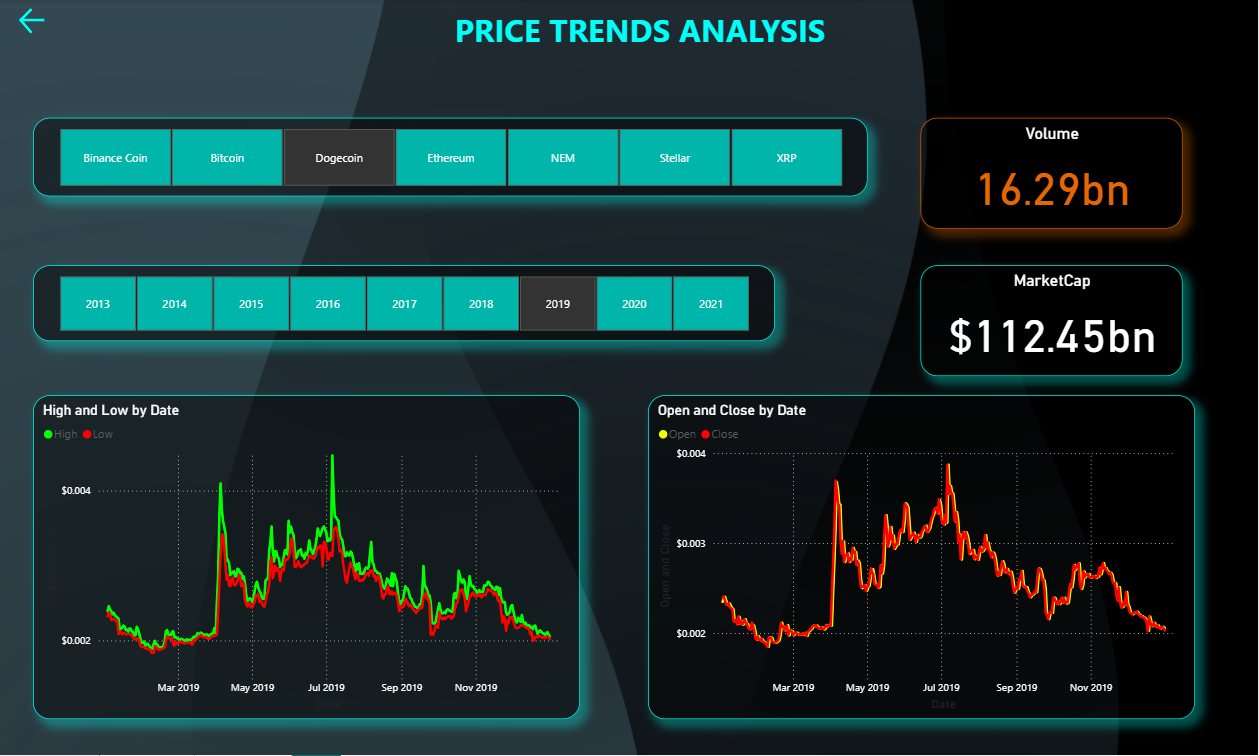

The dashboard page shown, as its layout file describes it:
{"tool":"powerbi","page":{"name":"Page 2","canvas":[1500,900],"ordinal":1},"visuals":[{"type":"slicer","fields":{"Values":["CryptoData_CSV.Name"]},"box":[41.8,141.5,993.8,93.3],"z":0},{"type":"slicer","fields":{"Values":["CryptoData_CSV.Year"]},"box":[41.8,316.8,882.8,90.1],"z":1000},{"type":"lineChart","fields":{"Y":["Sum(CryptoData_CSV.High)","Sum(CryptoData_CSV.Low)"],"Category":["CryptoData_CSV.Date"]},"box":[41.8,471.2,651.3,385.9],"z":2000},{"type":"actionButton","box":[20.9,6.4,41.8,40.2],"z":3000},{"type":"textbox","box":[538.7,6.4,749.4,64.3],"z":4000},{"type":"card","title":"MarketCap","fields":{"Values":["Sum(CryptoData_CSV.Marketcap)"]},"box":[1098.3,316.8,312,131.9],"z":5000},{"type":"card","title":"Volume","fields":{"Values":["Sum(CryptoData_CSV.Volume)"]},"box":[1098.3,141.5,312,131.9],"z":6000},{"type":"lineChart","fields":{"Category":["CryptoData_CSV.Date"],"Y":["Sum(CryptoData_CSV.Open)","Sum(CryptoData_CSV.Close)"]},"box":[773.5,471.2,651.3,385.9],"z":7000}]}

Visuals, with their boxes in screenshot pixels (x1, y1, x2, y2), scaled from the page's 1500x900 canvas onto the 1259x756 screenshot:
slicer - CryptoData_CSV.Name: {"left": 35, "top": 119, "right": 869, "bottom": 197}
slicer - CryptoData_CSV.Year: {"left": 35, "top": 266, "right": 776, "bottom": 342}
lineChart - Sum(CryptoData_CSV.High) x Sum(CryptoData_CSV.Low): {"left": 35, "top": 396, "right": 582, "bottom": 720}
actionButton: {"left": 18, "top": 5, "right": 53, "bottom": 39}
textbox: {"left": 452, "top": 5, "right": 1081, "bottom": 59}
"MarketCap" card: {"left": 922, "top": 266, "right": 1184, "bottom": 377}
"Volume" card: {"left": 922, "top": 119, "right": 1184, "bottom": 230}
lineChart - CryptoData_CSV.Date x Sum(CryptoData_CSV.Open): {"left": 649, "top": 396, "right": 1196, "bottom": 720}
